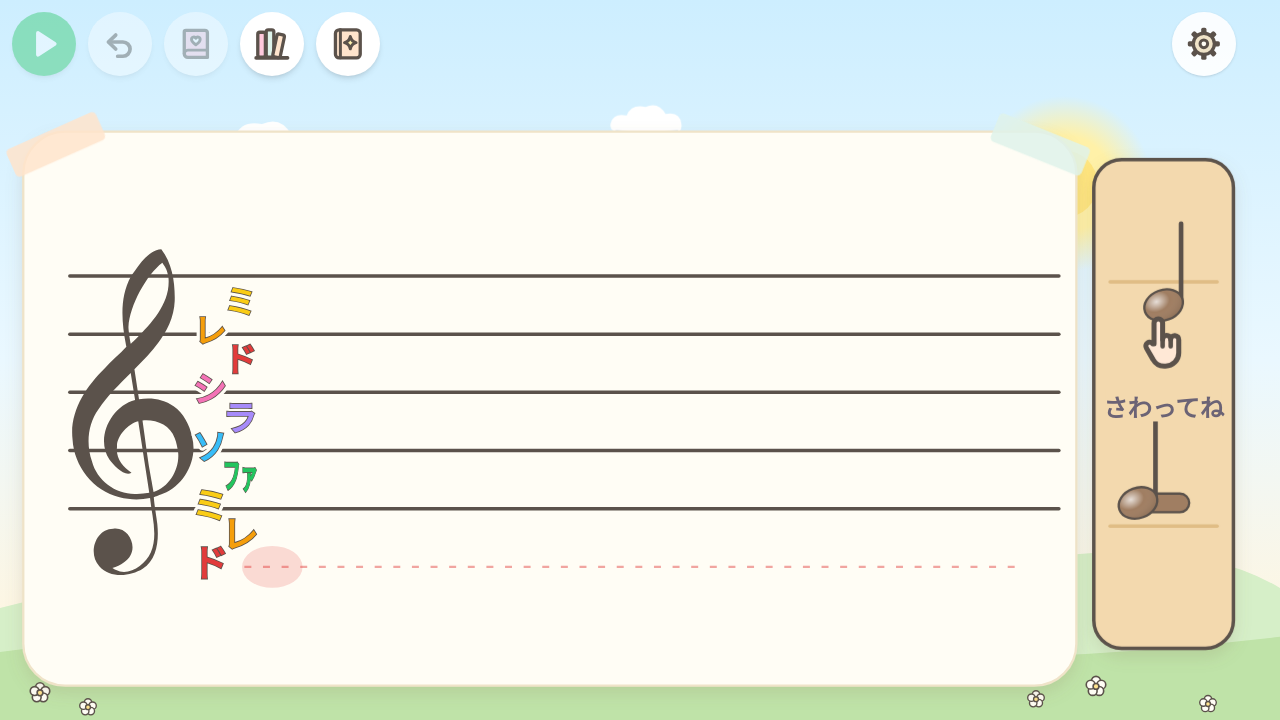
Test case: 再生中は音色ボタンが disabled（#60-2）
The width and height of the screenshot is (1280, 720).
Click the button named "ほんだな" at [272, 44], box [240,12,304,76]
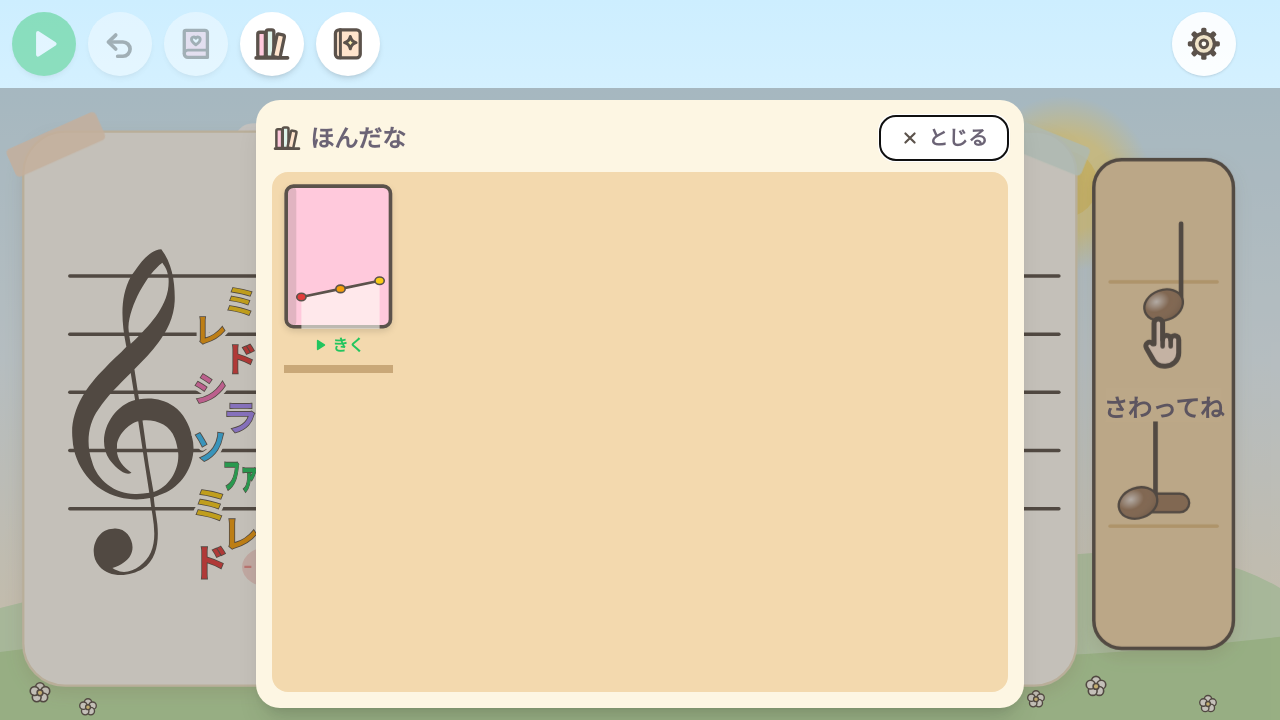
Click the button "きく" at [338, 270], box [284,184,393,357]
Wait 1 ms
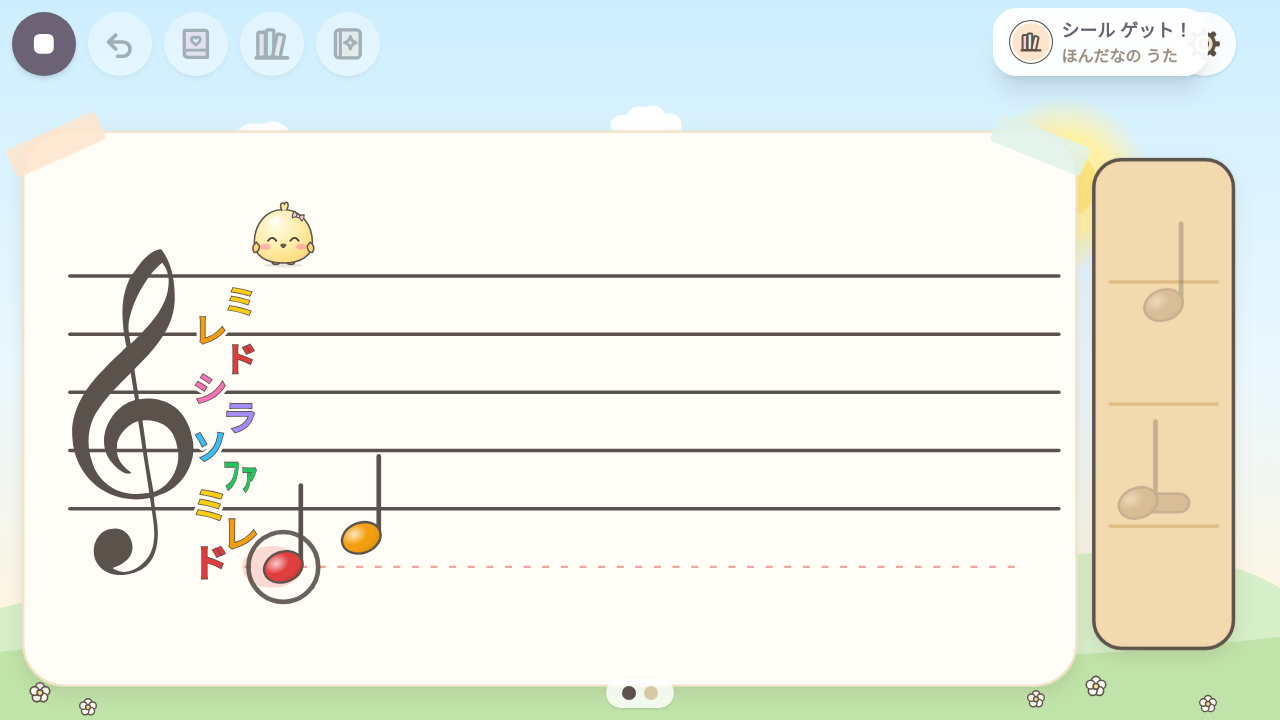
Press the mouse on the button named "おとなの メニュー（ながおし）" at [1204, 44], box [1172,12,1236,76]
Wait 1500 ms
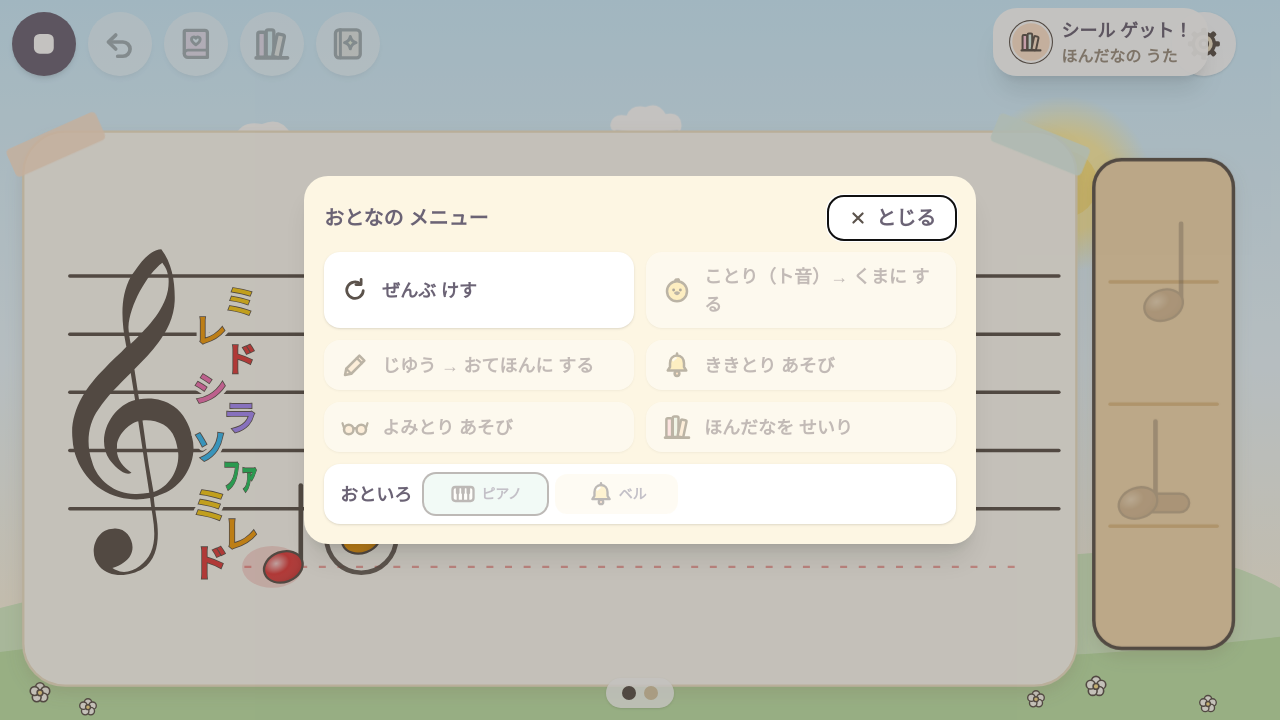
Expected: the button labelled "ベル" is disabled, [555,474,678,514]
